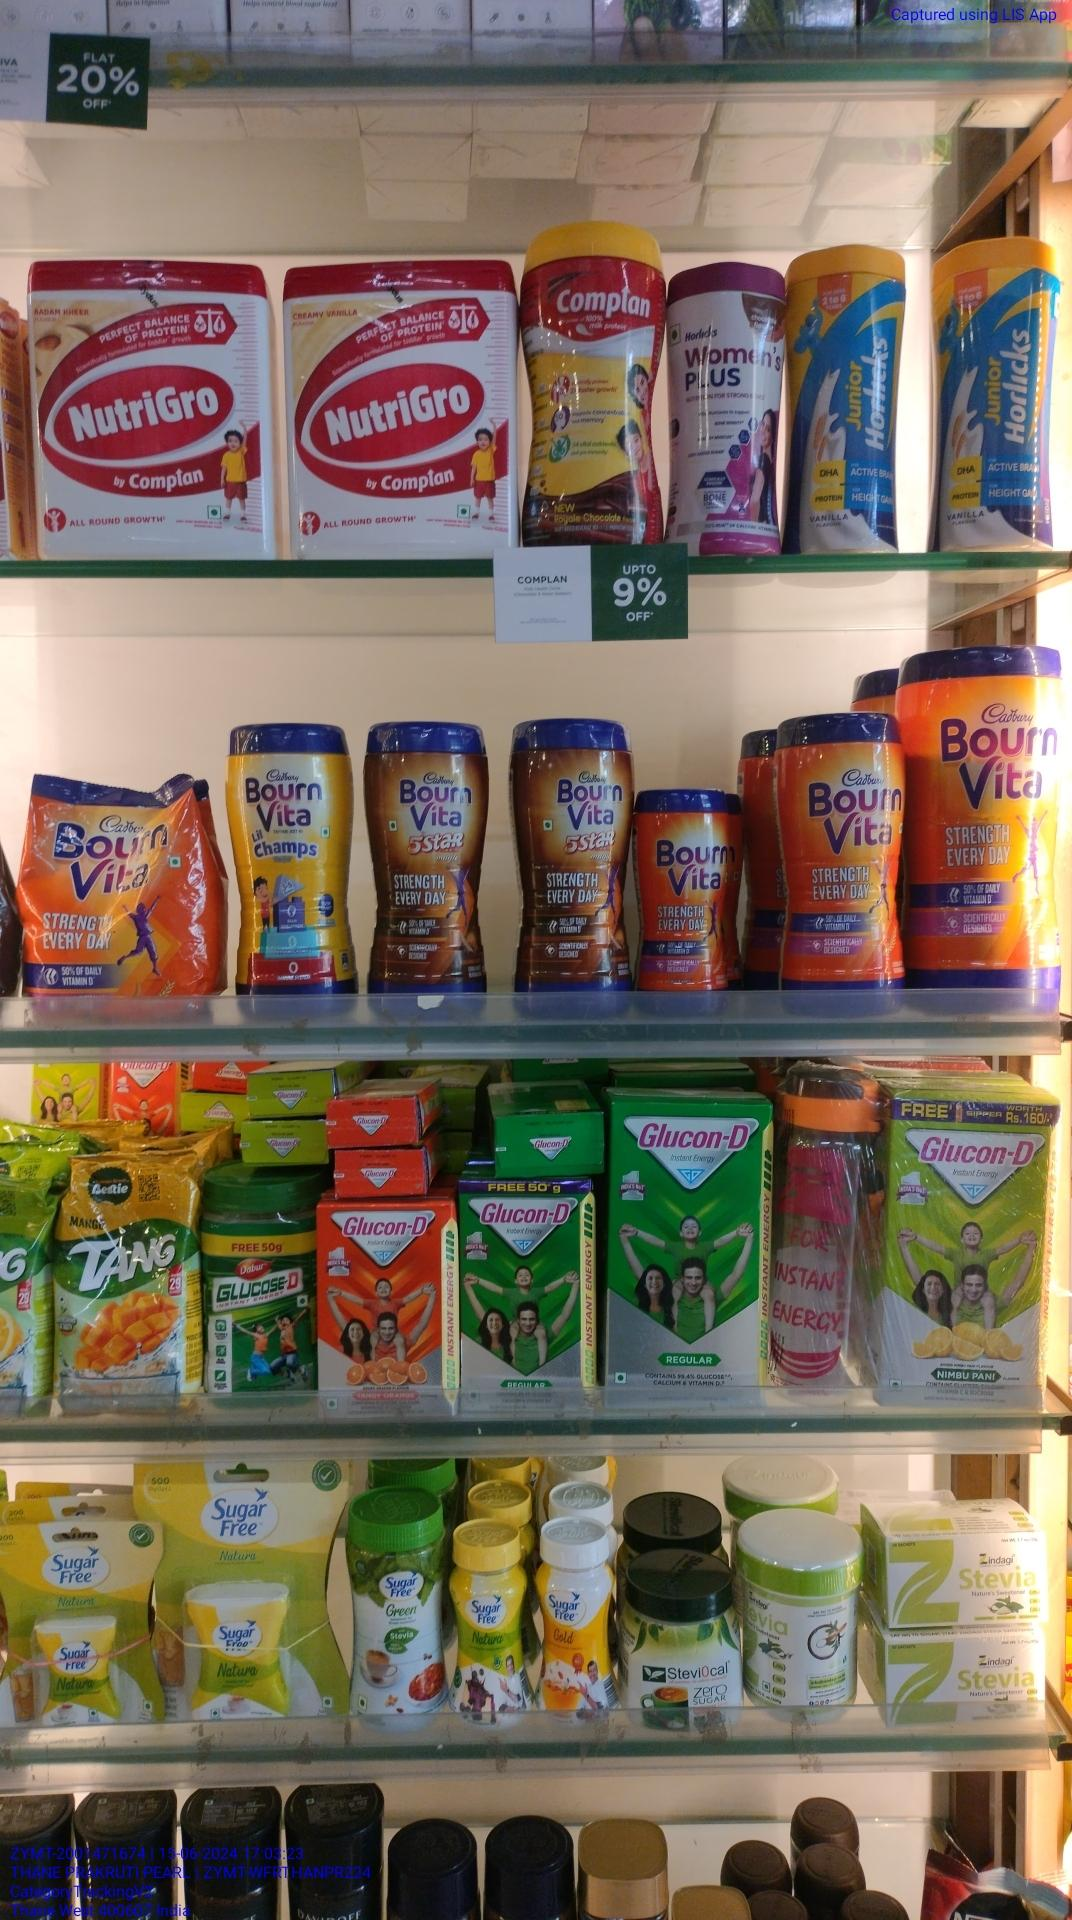BOURN_VITA_200_G_JAR: (638, 791, 730, 1004)
BOURN_VITA_500_G_JAR: (774, 711, 901, 997)
BOURN_VITA_500_G_POUCH: (26, 766, 214, 990)
BOURN_VITA_CHAMPS_500_G_JAR: (906, 649, 1060, 988), (228, 720, 355, 993)
BOURN_VITA_FIVE_STAR_MAGIC_500_G_JAR: (364, 721, 489, 1001), (512, 719, 626, 990)
COMPLAN_CHOCOLATE_500_GMS_JAR: (521, 228, 661, 541)
HORLICKS_JUNIOR_VANILLA_500_GM_JAR: (928, 241, 1052, 550), (789, 247, 907, 550)
